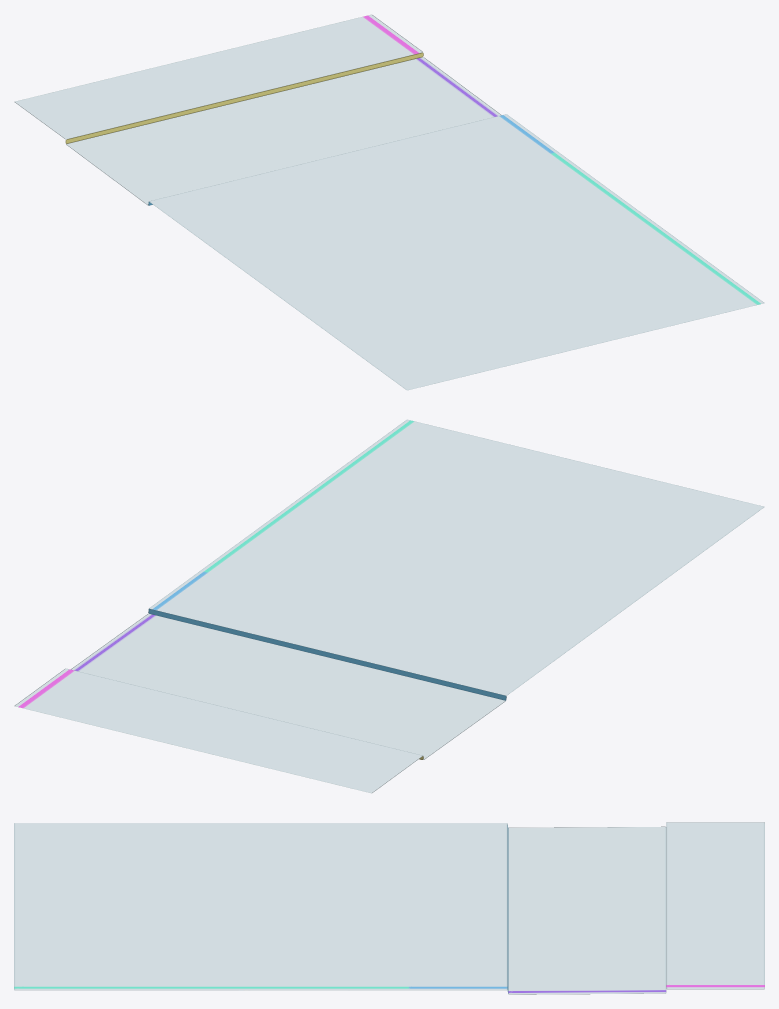
The model's file is Teste_Rua3.fbx.
3 renders of one model, top to bottom at view 1: azimuth 30°, elevation 25°; view 2: azimuth 150°, elevation 25°; view 3: azimuth 270°, elevation 25°, orthographic. The views are drawn at different scales.
Visible parts, largest first — view 1: plane; view 2: plane; view 3: plane.
Part boxes in pixels (x1,y1,x2,y2): plane: (14,14,764,390); plane: (14,419,764,793); plane: (14,822,764,994).
Size of the model in its own units: 2000 by 30.52 by 3803.
1 material, 1 textured.
